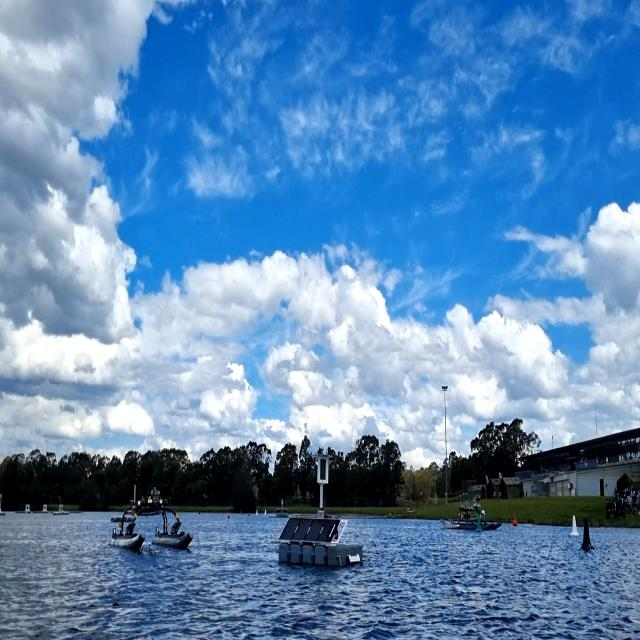led: (318, 457, 328, 482)
